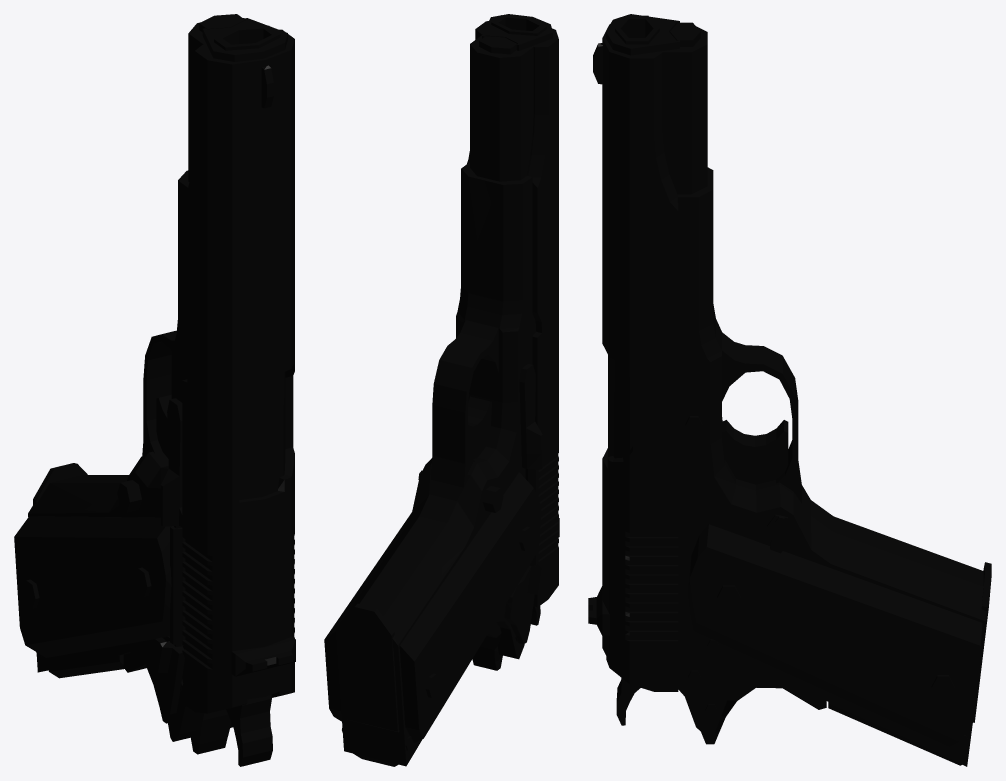
Rendered from Colt1911.fbx.
3 renders of one model, left to right at view 1: azimuth 30°, elevation 25°; view 2: azimuth 150°, elevation 25°; view 3: azimuth 270°, elevation 25°, orthographic. The views are drawn at different scales.
Visible parts, largest first — view 1: asset_Colt1911.001; view 2: asset_Colt1911.001; view 3: asset_Colt1911.001.
Part boxes in pixels (x1,y1,x2,y2): asset_Colt1911.001: (14, 14, 295, 766); asset_Colt1911.001: (324, 14, 559, 766); asset_Colt1911.001: (588, 14, 991, 766).
Bounding box in the file's own units: 0.0212 × 0.1332 × 0.0669.
